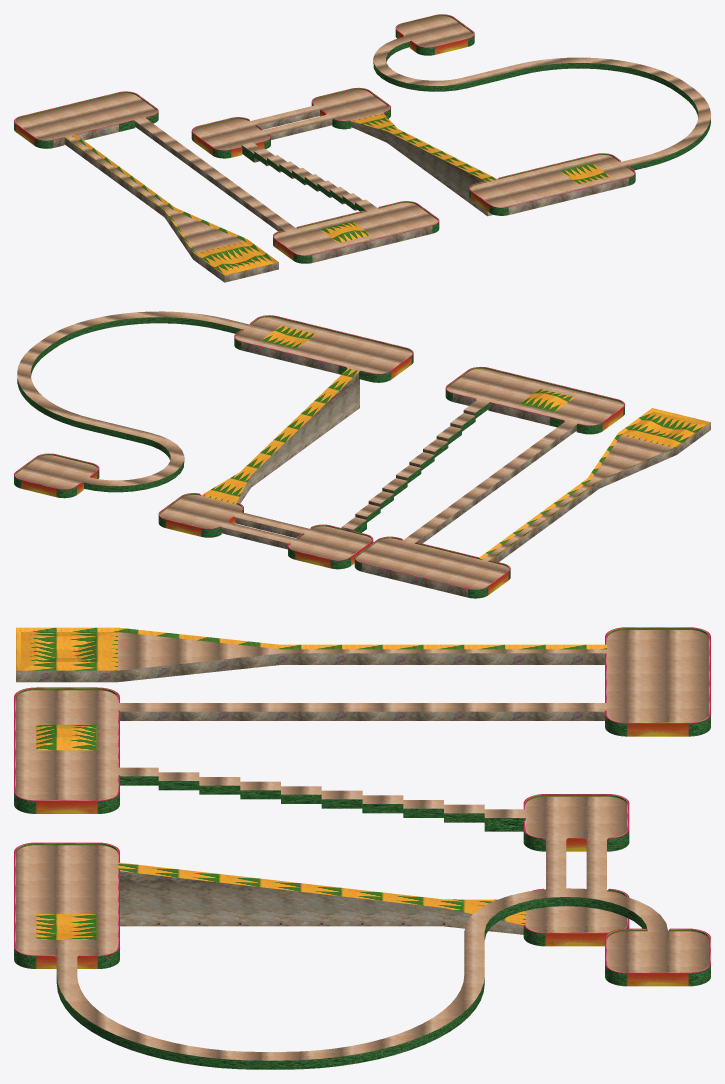
3 renders of one model, top to bottom at view 1: azimuth 30°, elevation 25°; view 2: azimuth 150°, elevation 25°; view 3: azimuth 270°, elevation 25°, orthographic. The views are drawn at different scales.
Visible parts, largest first — view 1: STG009; view 2: STG009; view 3: STG009.
Part boxes in pixels (bbox=[...]): STG009: bbox=[14, 14, 710, 282]; STG009: bbox=[14, 311, 710, 598]; STG009: bbox=[14, 627, 710, 1069].
Size of the model in its own units: 50.1 by 3.35 by 34.2.
